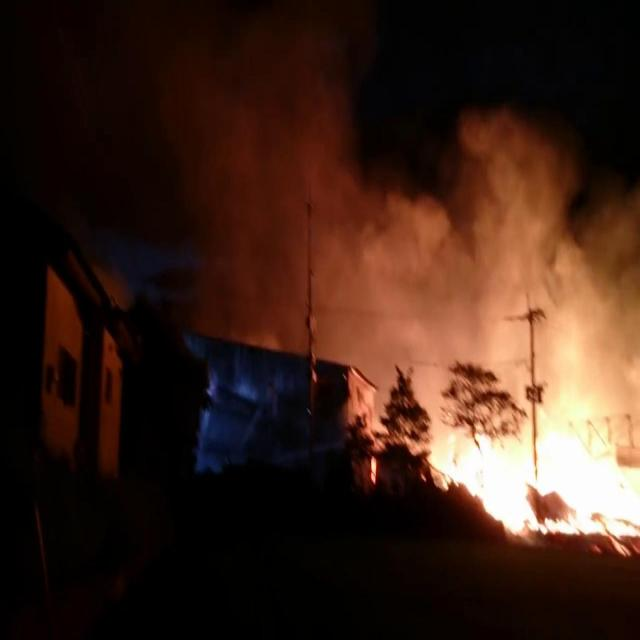Fire: (431, 425, 637, 538)
